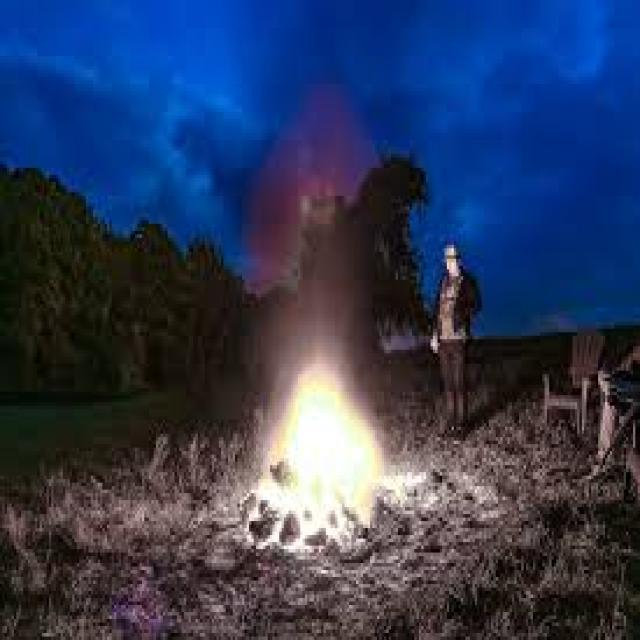Fire: (233, 292, 394, 562)
Smoke: (254, 67, 398, 362)
